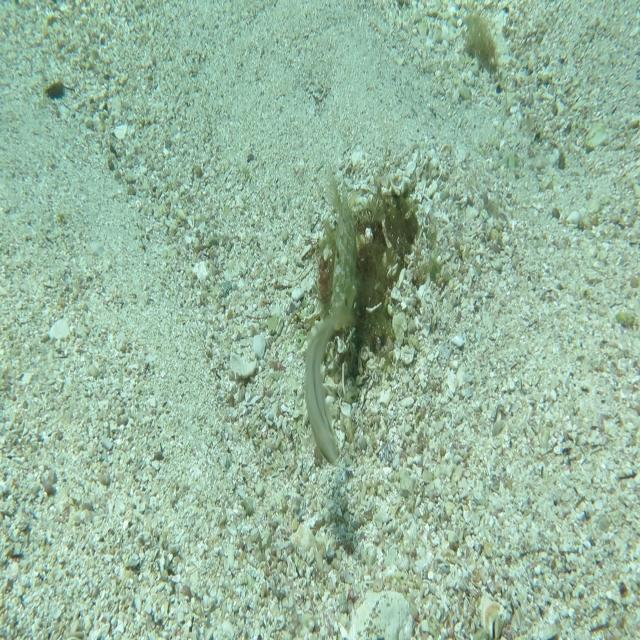CHASE_FLEE: (323, 162, 358, 332)
female: (302, 295, 359, 468)
nest: (307, 163, 434, 373)
